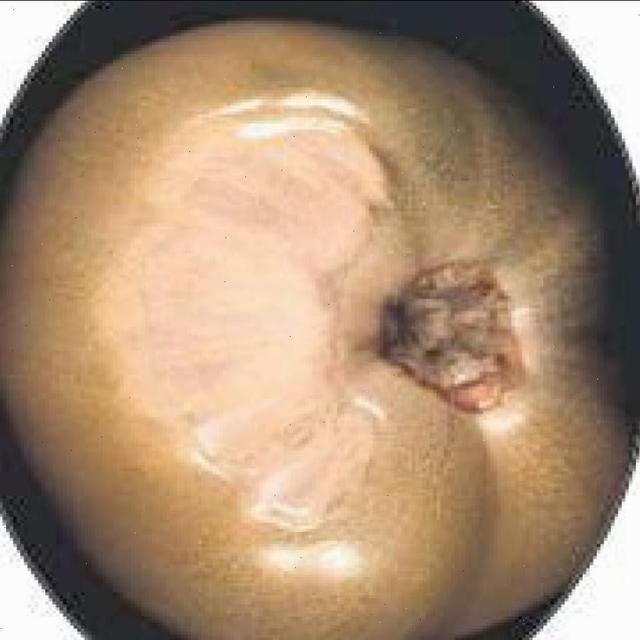Sunscald Fruit: (59, 62, 289, 358)
